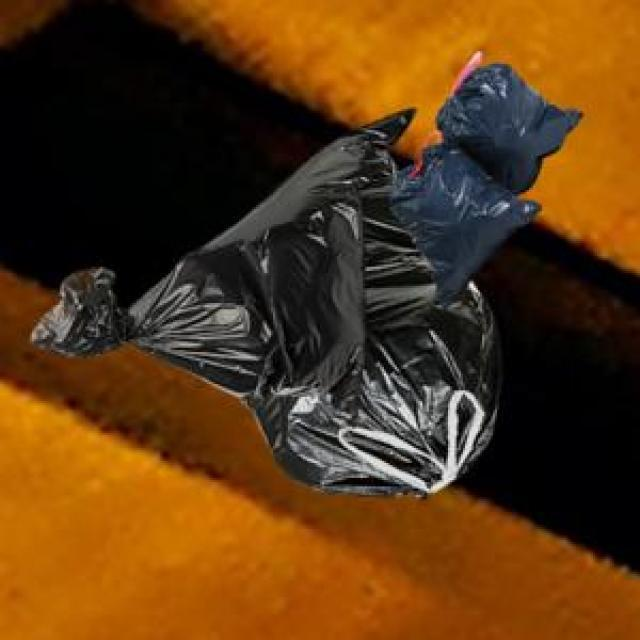Vinyl: (32, 64, 580, 493)
